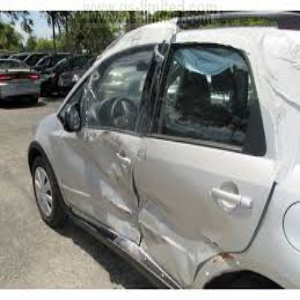door: (76, 156, 208, 238)
